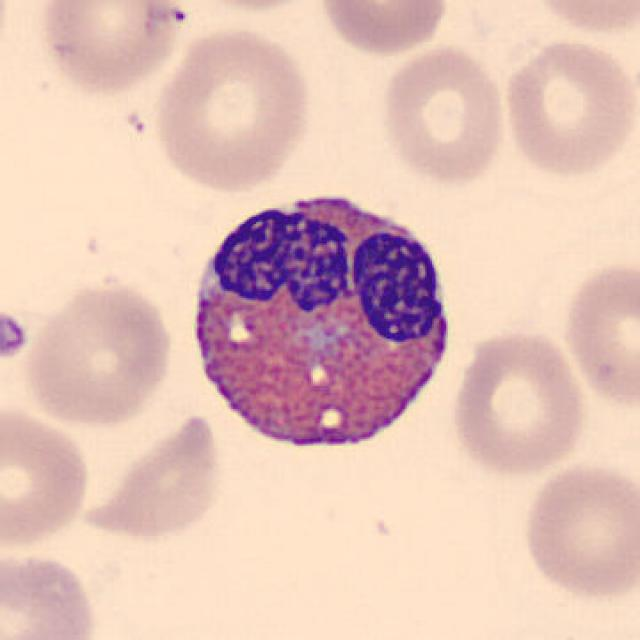Eosinophil: (180, 173, 466, 472)
Platelets: (0, 309, 30, 363)
RBC: (150, 23, 316, 196), (19, 275, 178, 430), (446, 326, 590, 480), (74, 409, 226, 543), (498, 35, 636, 180), (377, 42, 510, 189), (518, 458, 638, 603), (36, 0, 190, 97), (0, 398, 94, 554), (558, 256, 640, 414), (0, 545, 103, 640), (314, 0, 452, 58), (524, 0, 638, 39), (181, 0, 327, 14)
